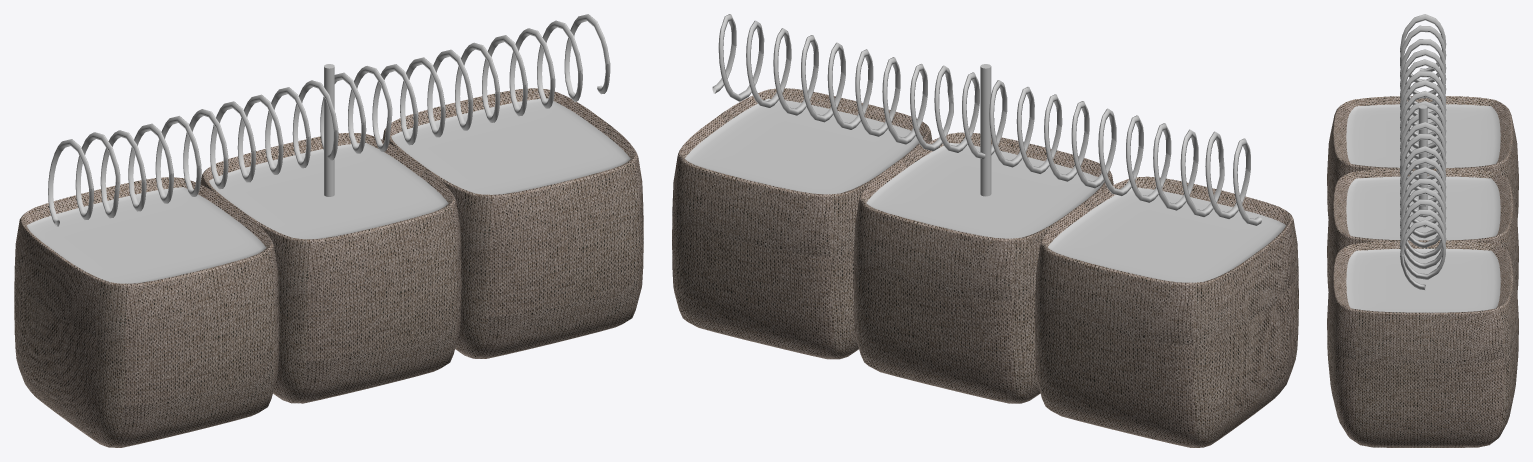
File: LINEAR_FENCE.fbx
3 renders of one model, left to right at view 1: azimuth 30°, elevation 25°; view 2: azimuth 150°, elevation 25°; view 3: azimuth 270°, elevation 25°, orthographic. The views are drawn at different scales.
Visible parts, largest first — view 1: LINEAR_FENCE_GRP2; view 2: LINEAR_FENCE_GRP2; view 3: LINEAR_FENCE_GRP2.
Boxes of the visible parts, left/top/right/bottom form: LINEAR_FENCE_GRP2: left=14, top=14, right=643, bottom=447; LINEAR_FENCE_GRP2: left=672, top=14, right=1298, bottom=447; LINEAR_FENCE_GRP2: left=1327, top=14, right=1518, bottom=447.
Size of the model in its own units: 12.23 by 6.2 by 4.49.
